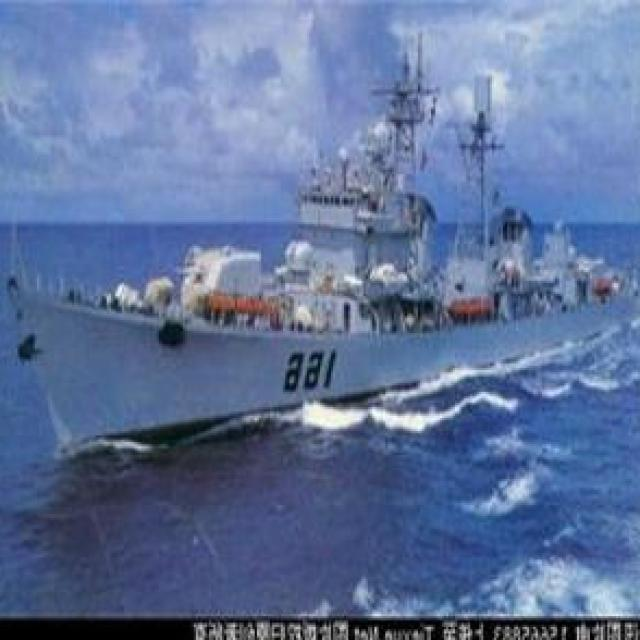navalvessels: (23, 64, 629, 483)
